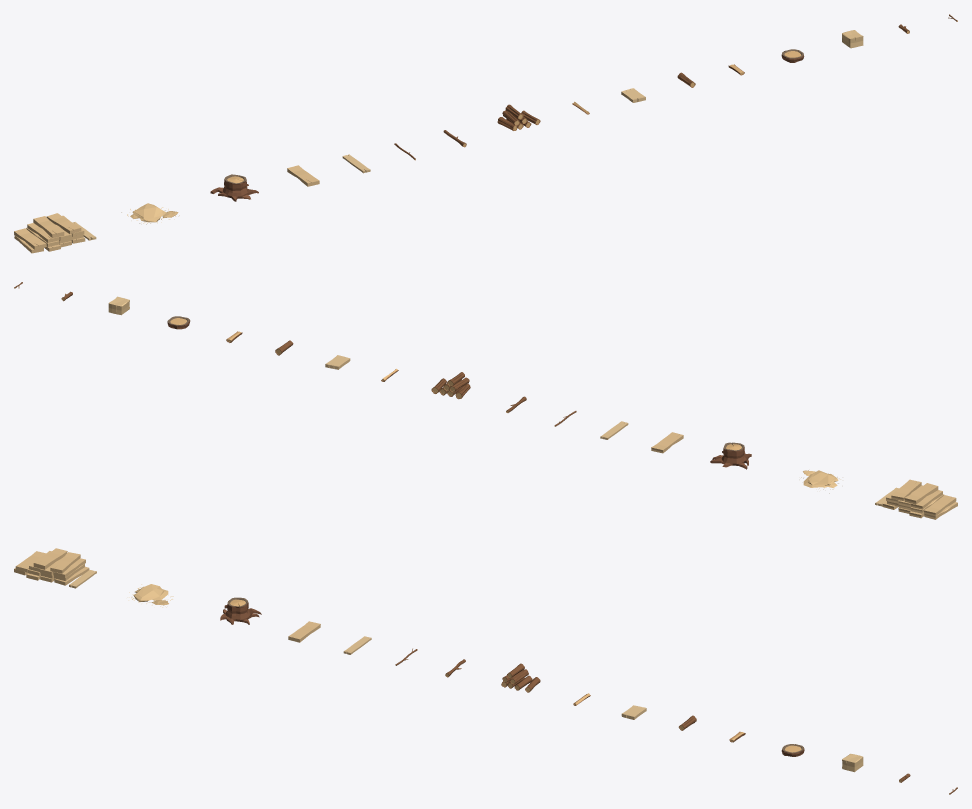
Rendered from WoodLogs.fbx.
3 renders of one model, top to bottom at view 1: azimuth 30°, elevation 25°; view 2: azimuth 150°, elevation 25°; view 3: azimuth 330°, elevation 25°, orthographic.
Parts seen in each view (by area): view 1: WoodLogs_01, WoodLogs_03, WoodLogs_08, WoodLogs_02; view 2: WoodLogs_01, WoodLogs_03, WoodLogs_08, WoodLogs_02; view 3: WoodLogs_01, WoodLogs_03, WoodLogs_08, WoodLogs_02.
Boxes of the visible parts, x1,y1,x2,y2 form: WoodLogs_01: [14, 213, 96, 253]; WoodLogs_03: [210, 174, 258, 201]; WoodLogs_08: [497, 104, 540, 130]; WoodLogs_02: [121, 203, 179, 224]; WoodLogs_01: [875, 479, 957, 519]; WoodLogs_03: [710, 442, 751, 469]; WoodLogs_08: [431, 372, 470, 399]; WoodLogs_02: [801, 470, 840, 493]; WoodLogs_01: [14, 548, 96, 588]; WoodLogs_03: [220, 597, 261, 624]; WoodLogs_08: [501, 663, 540, 692]; WoodLogs_02: [128, 584, 173, 607].
Size of the model in its own units: 21.36 by 0.3788 by 0.9915.
Materials: 1 (1 with a texture image).
